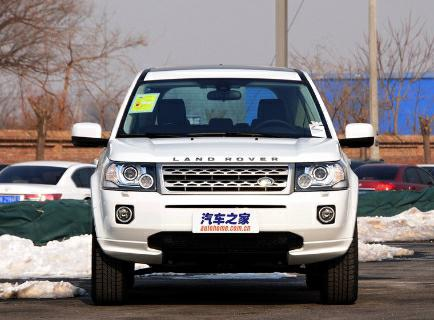路虎-神行者2: (74, 67, 376, 306)
